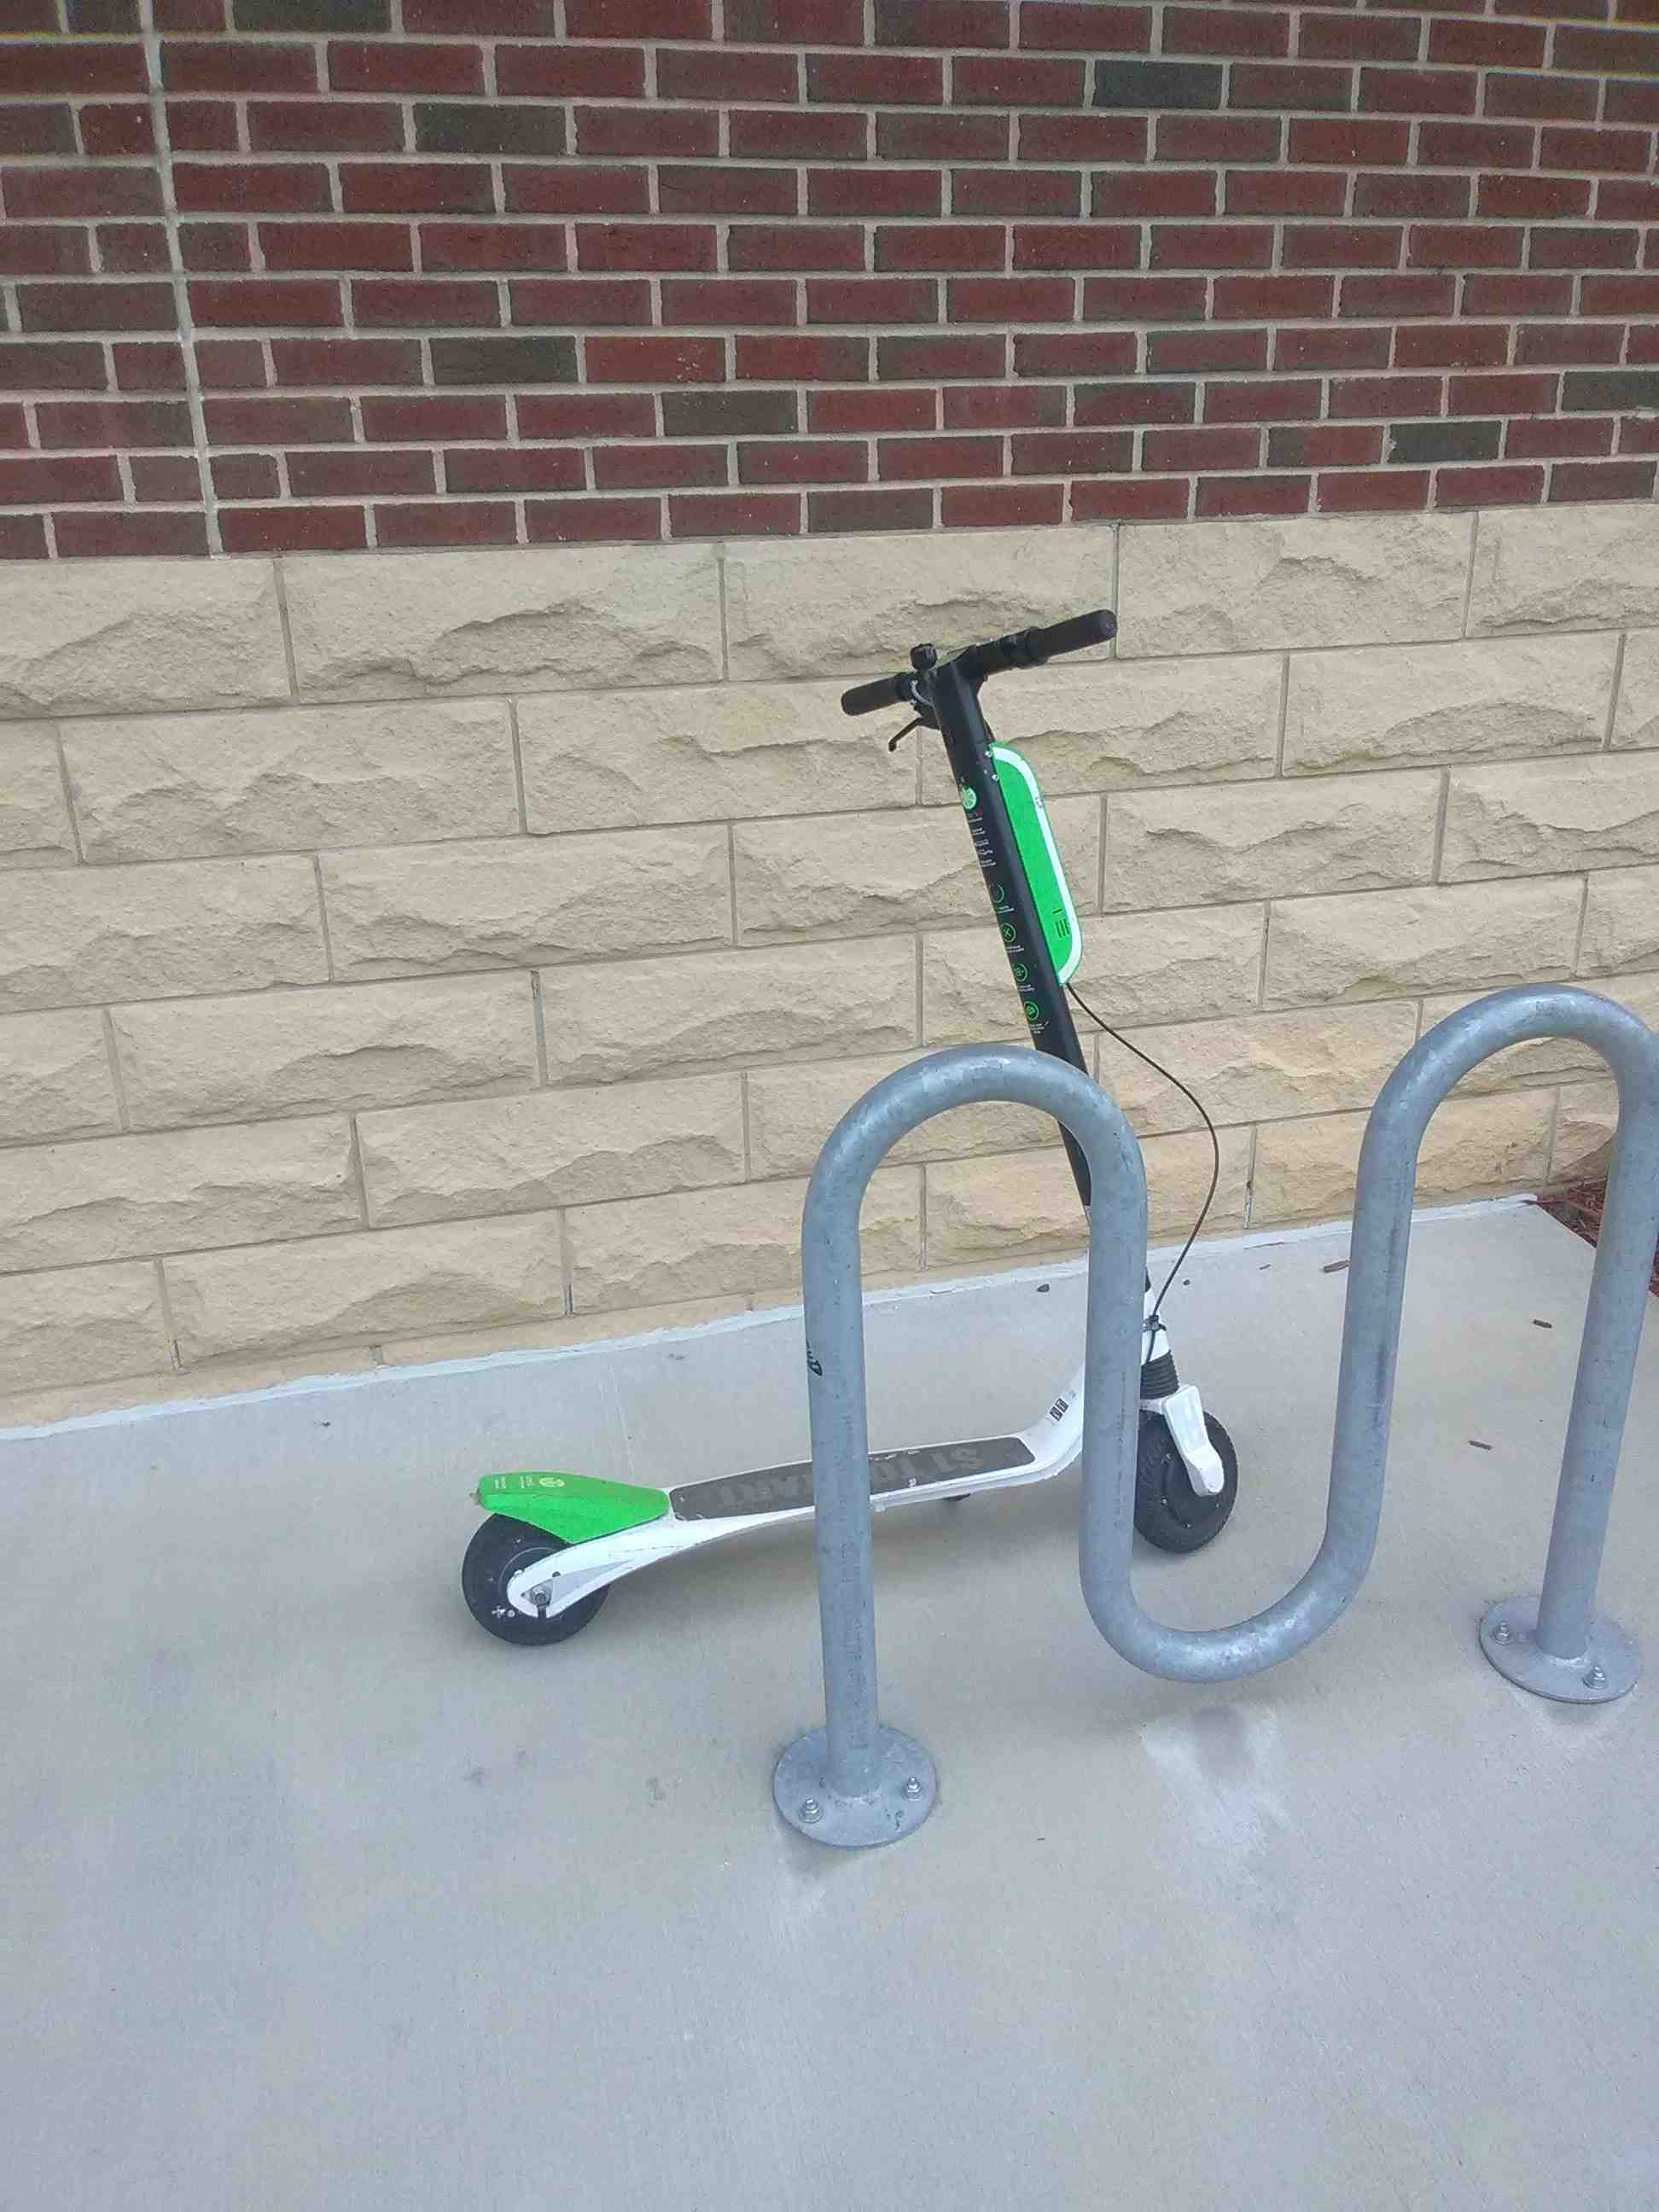scooter: (415, 566, 1265, 1665)
